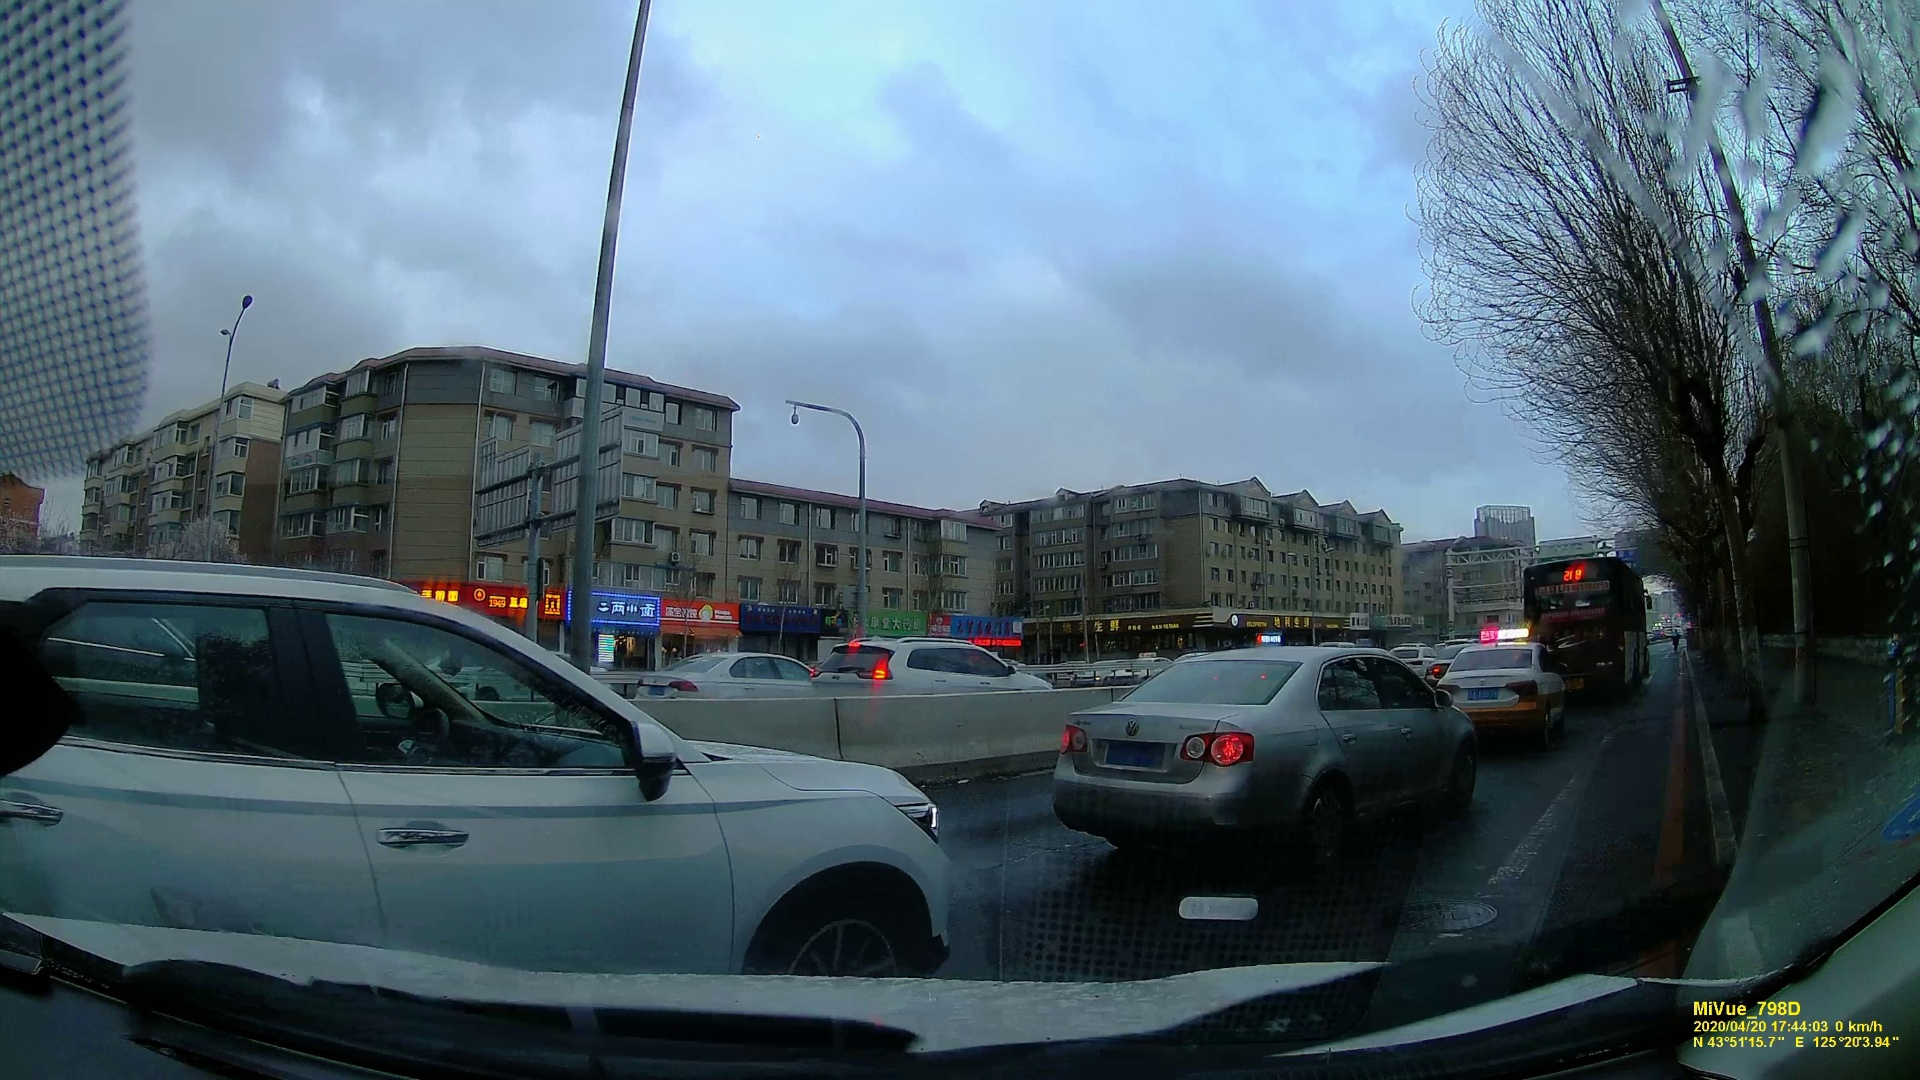bus: (1519, 559, 1654, 699)
vehicle: (1, 564, 956, 978), (1052, 644, 1478, 858), (1439, 640, 1577, 742), (818, 634, 1048, 694), (629, 649, 818, 709)
